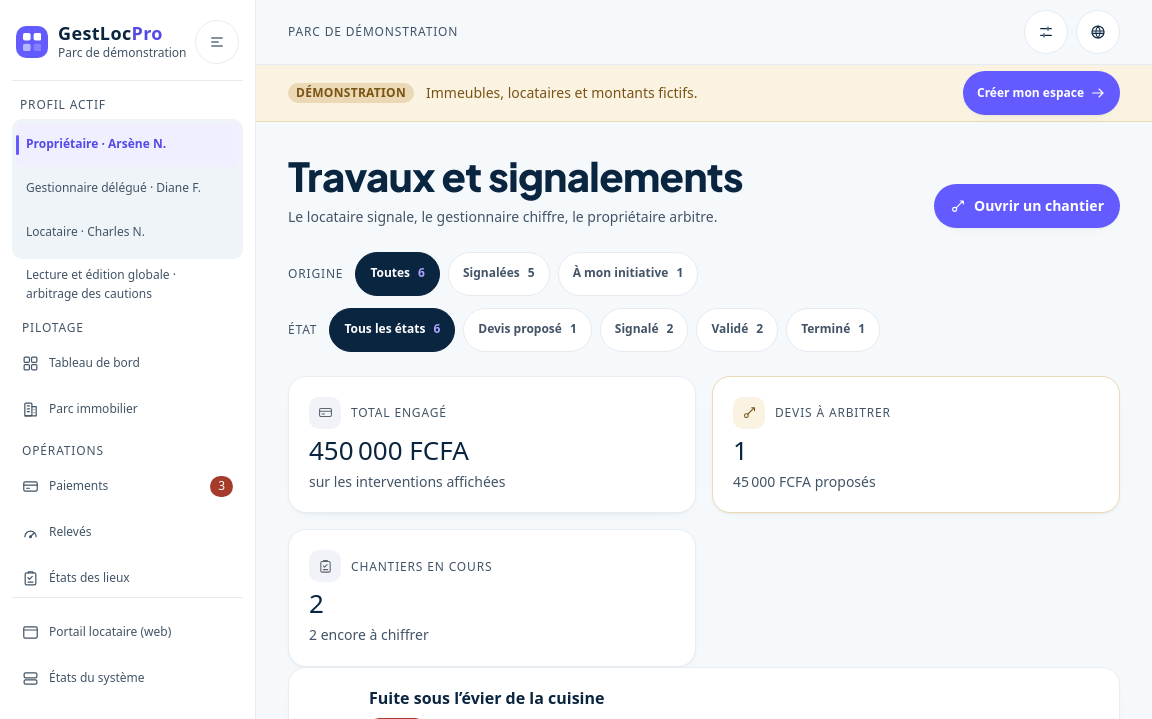
Test case: signalement par le locataire › est proposé au locataire
The width and height of the screenshot is (1152, 719).
Click the radio button labelled "Locataire · Charles N." at (85, 232), box [26, 223, 145, 240]
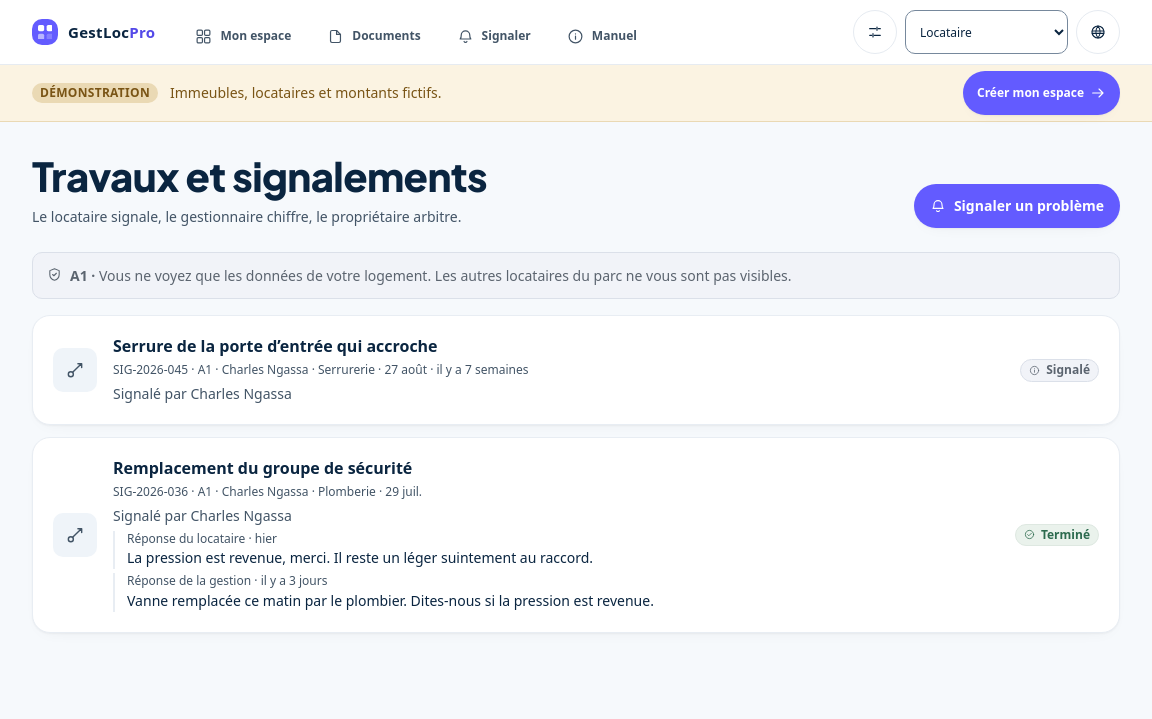
Check: the button "Signaler un problème" is shown, box [914, 184, 1120, 228]
